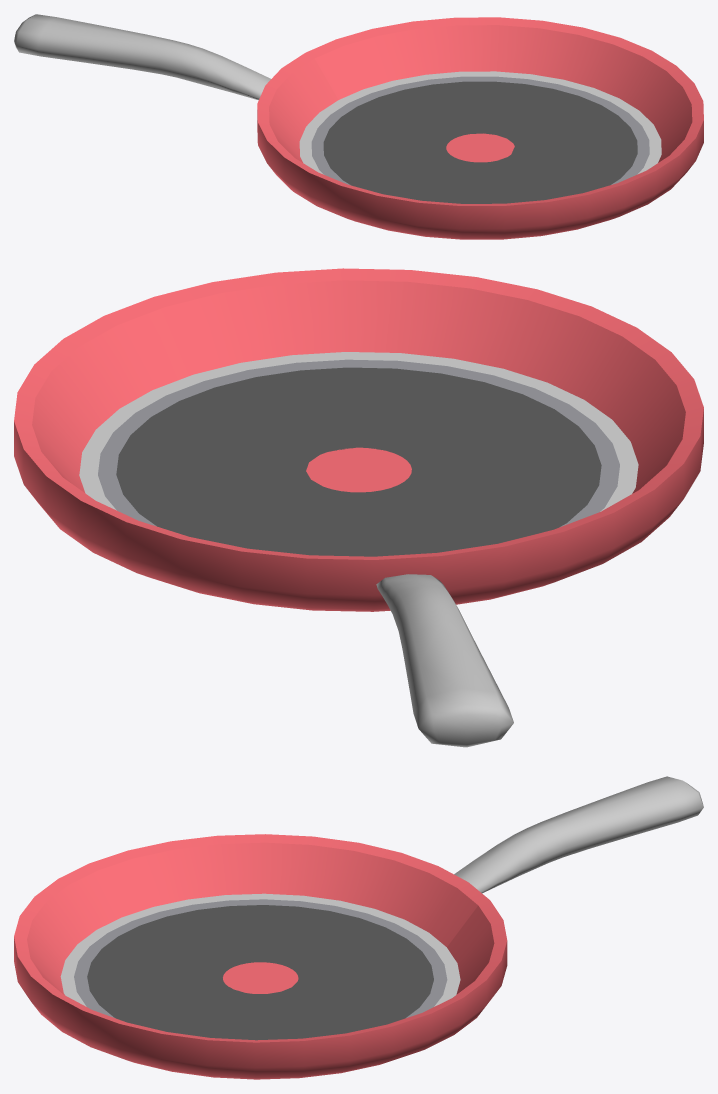
The model's file is pan.glb.
The picture shows the model from 3 angles, top to bottom: view 1: azimuth 30°, elevation 25°; view 2: azimuth 150°, elevation 25°; view 3: azimuth 270°, elevation 25°; orthographic projection. The views are drawn at different scales.
Size of the model in its own units: 0.4411 by 0.0596 by 0.5023.
